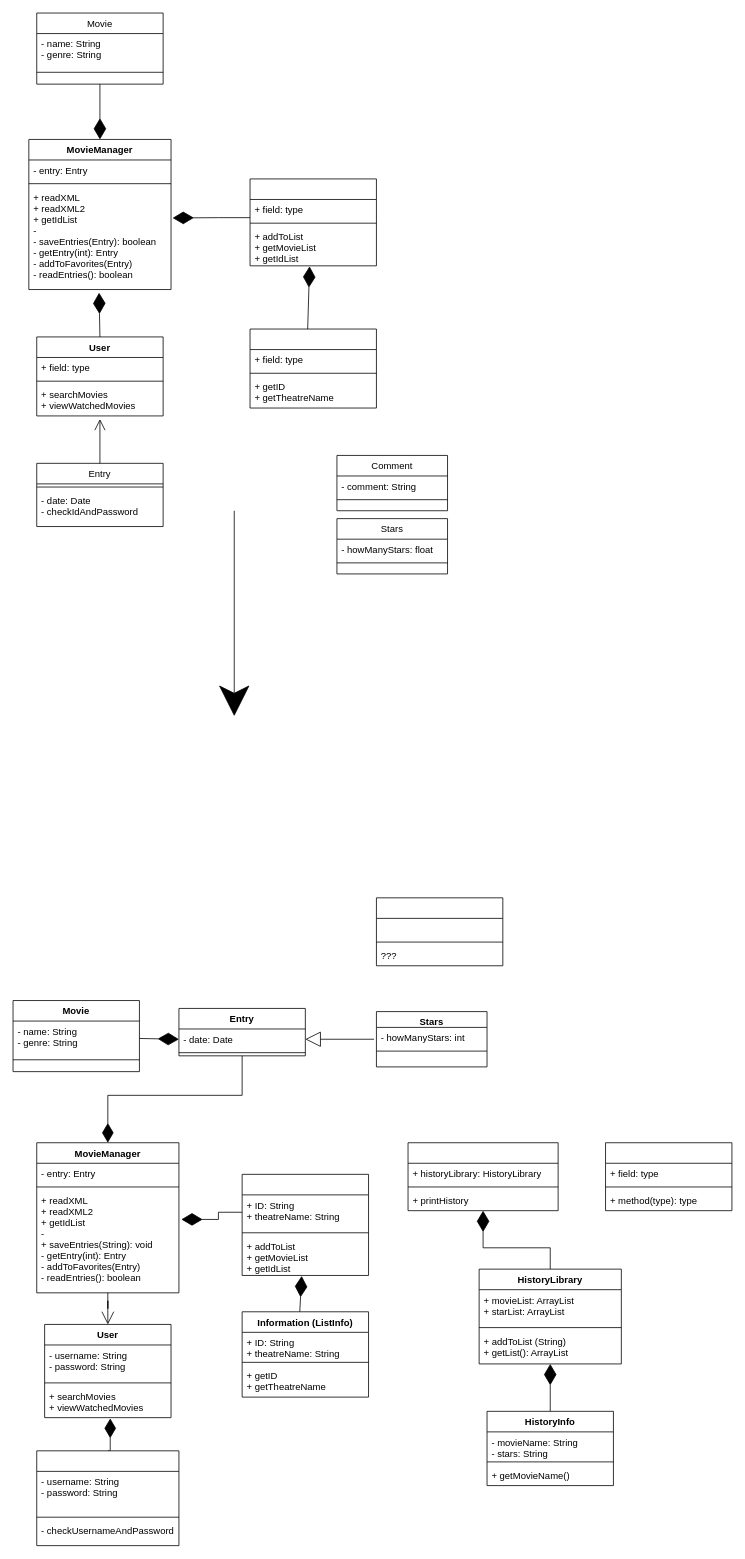
Some shapes in this 745 by 1559 pixel diagram are drawn without their labels. Here are the shapes that lost their labels. From the top down, the box of each, then its label:
(249, 178, 376, 266): Kirjasto (Lists)
(249, 328, 376, 408): Tiedot (ListInfo)
(376, 897, 503, 966): CSWriteAndRead
(407, 1142, 558, 1211): FragmentHistory
(605, 1142, 732, 1211): Classname
(241, 1174, 369, 1275): Library (Lists)
(36, 1450, 179, 1546): Login
